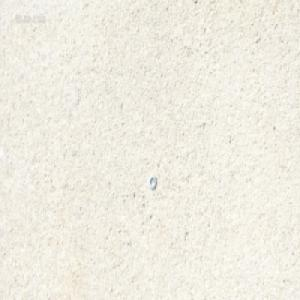Washer: (149, 174, 156, 190)
